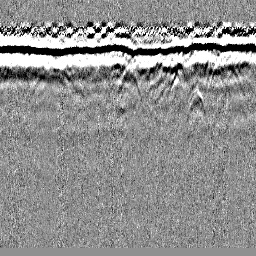cavity: (115, 63, 143, 103)
